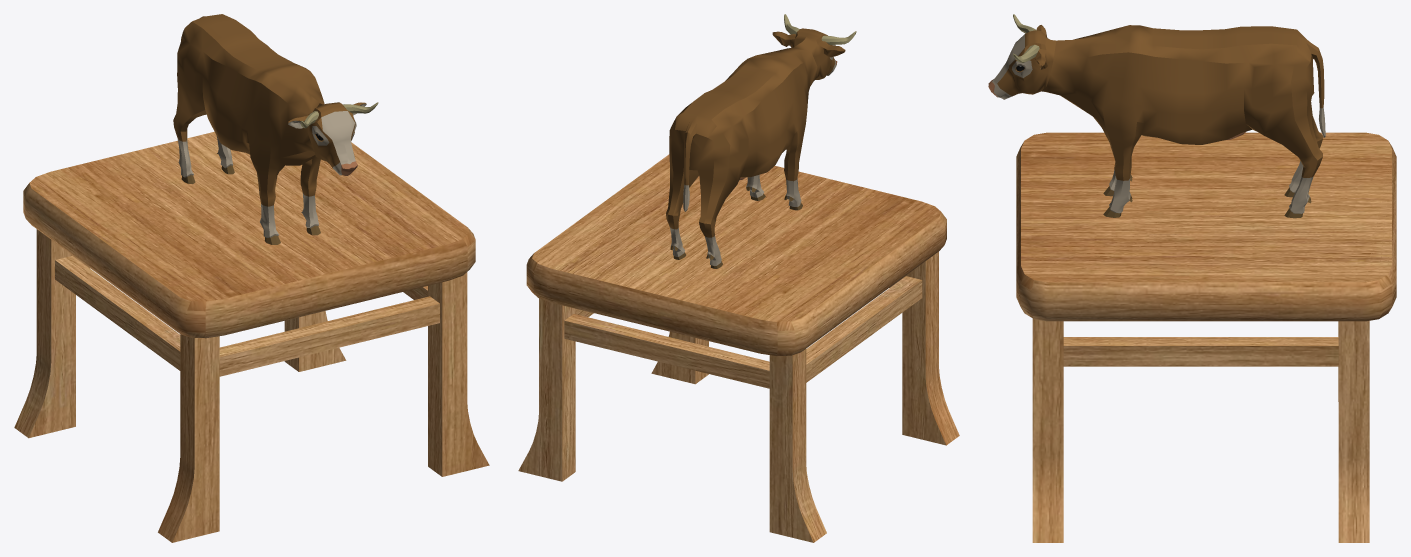
Rendered from cow and table.fbx.
The picture shows the model from 3 angles, left to right: view 1: azimuth 30°, elevation 25°; view 2: azimuth 150°, elevation 25°; view 3: azimuth 270°, elevation 25°; orthographic projection. The views are drawn at different scales.
Visible parts, largest first — view 1: table, cow; view 2: table, cow; view 3: table, cow.
Boxes of the visible parts, x1,y1,x2,y2 form: table: (14, 131, 489, 542); cow: (173, 14, 378, 244); table: (518, 154, 959, 542); cow: (666, 14, 856, 268); table: (1016, 132, 1396, 542); cow: (988, 14, 1325, 218).
Bounding box in the file's own units: 11 × 13.26 × 11.45.
8 materials, 1 textured.
